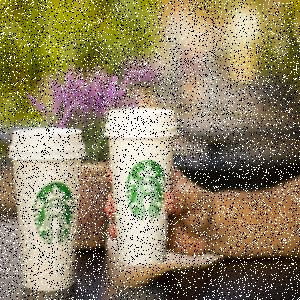Cup: (9, 127, 88, 293), (105, 109, 181, 267)
